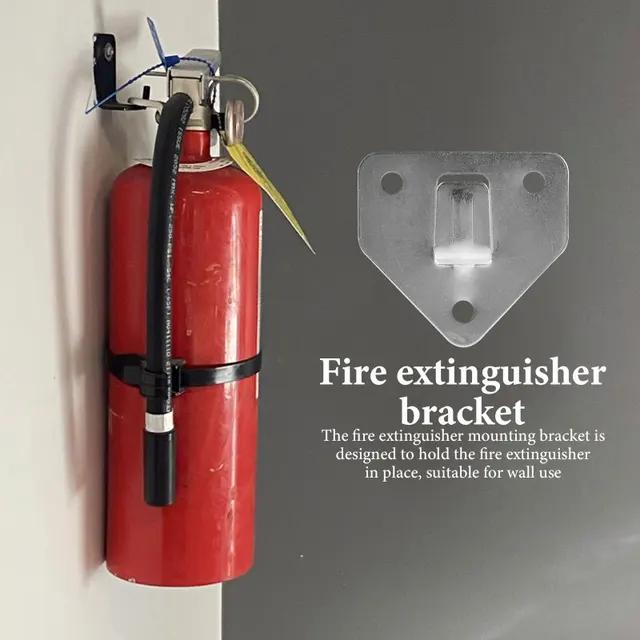wall-mounted: (62, 28, 275, 594)
